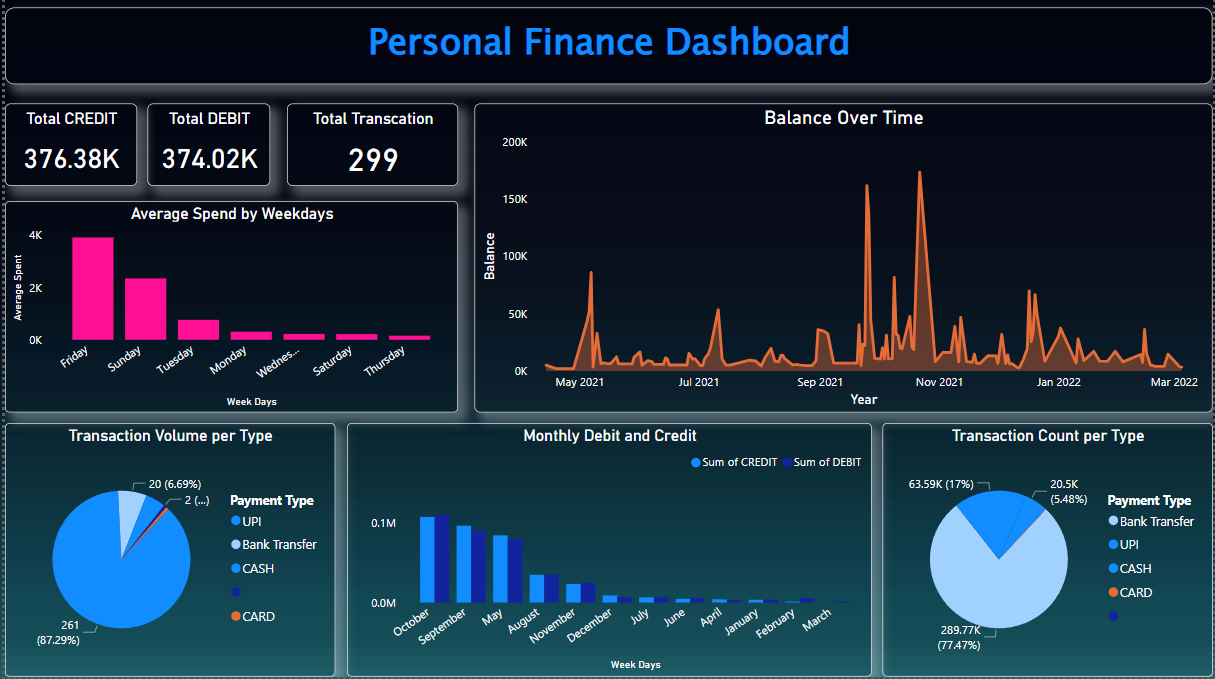

What the dashboard file says about the page in this screenshot:
{"tool":"powerbi","page":{"name":"Page 1","canvas":[1280,720],"ordinal":0},"visuals":[{"type":"card","title":"Total CREDIT","fields":{"Values":["Sum(Apr21-March22.CREDIT)"]},"box":[0,112.8,139.9,87.4],"z":0},{"type":"card","title":"Total DEBIT","fields":{"Values":["Sum(Apr21-March22.DEBIT)"]},"box":[151,112.8,130.3,87.4],"z":1000},{"type":"areaChart","title":"Balance Over Time","fields":{"Category":["Apr21-March22.Txn Date.Variation.Date Hierarchy.Year","Apr21-March22.Txn Date.Variation.Date Hierarchy.Quarter","Apr21-March22.Txn Date.Variation.Date Hierarchy.Month","Apr21-March22.Txn Date.Variation.Date Hierarchy.Day"],"Y":["Sum(Apr21-March22.Balance)"]},"box":[497.5,112.8,782,327.4],"z":2000},{"type":"clusteredColumnChart","title":"Average Spend by Weekdays","fields":{"Y":["Avg(Apr21-March22.DEBIT)"],"Category":["Apr21-March22.Day Name"]},"box":[0,216.2,480,224.1],"z":3000},{"type":"clusteredColumnChart","title":"Monthly Debit and Credit","fields":{"Category":["Apr21-March22.Month Name"],"Y":["Sum(Apr21-March22.CREDIT)","Sum(Apr21-March22.DEBIT)"]},"box":[362.4,451.4,556.3,268.6],"z":4000},{"type":"pieChart","title":"Transaction Count per Type","fields":{"Category":["Apr21-March22.Payment Type"],"Y":["Sum(Apr21-March22.DEBIT)"]},"box":[929.8,451.4,349.7,268.6],"z":5000},{"type":"pieChart","title":"Transaction Volume per Type","fields":{"Category":["Apr21-March22.Payment Type"],"Y":["CountNonNull(Apr21-March22.Payment Type)"]},"box":[0,451.4,349.7,268.6],"z":6000},{"type":"card","title":"Total Transcation","fields":{"Values":["CountNonNull(Apr21-March22.Balance)"]},"box":[298.8,112.8,181.2,87.4],"z":7000},{"type":"textbox","box":[0,11.1,1279.5,81.1],"z":8000}]}

Visuals, with their boxes in screenshot pixels (x1, y1, x2, y2), scaled from the page's 1280x720 canvas onto the 1215x679 screenshot:
"Total CREDIT" card: (left=0, top=106, right=133, bottom=189)
"Total DEBIT" card: (left=143, top=106, right=267, bottom=189)
"Balance Over Time" areaChart: (left=472, top=106, right=1214, bottom=415)
"Average Spend by Weekdays" clusteredColumnChart: (left=0, top=204, right=456, bottom=415)
"Monthly Debit and Credit" clusteredColumnChart: (left=344, top=426, right=872, bottom=678)
"Transaction Count per Type" pieChart: (left=883, top=426, right=1214, bottom=678)
"Transaction Volume per Type" pieChart: (left=0, top=426, right=332, bottom=678)
"Total Transcation" card: (left=284, top=106, right=456, bottom=189)
textbox: (left=0, top=10, right=1214, bottom=87)
